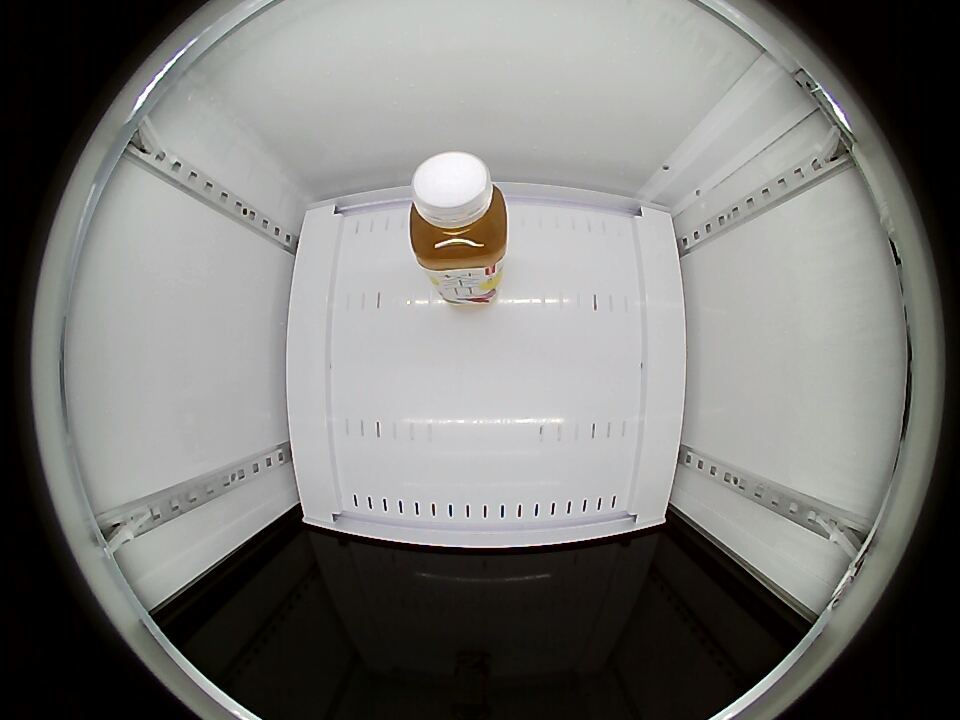chapai: (408, 152, 508, 272)
